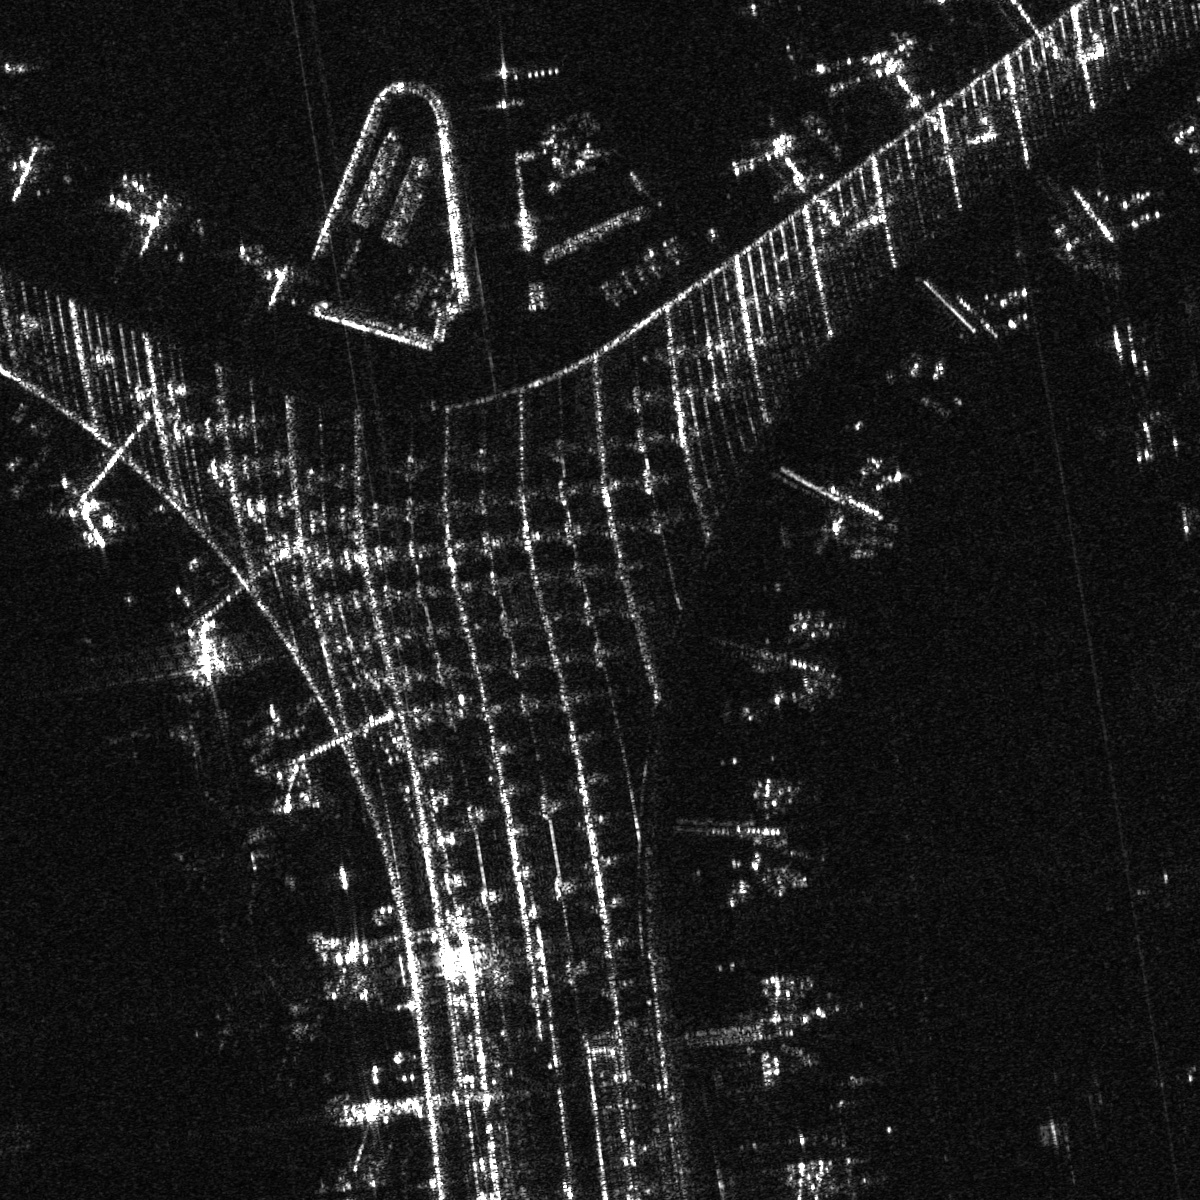Boeing787: (174, 786, 280, 902)
other: (208, 959, 330, 1076)
